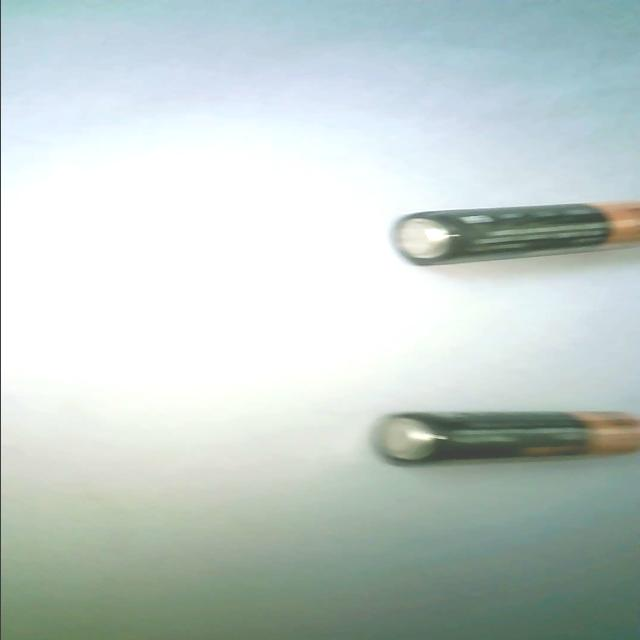AA: (392, 200, 640, 266), (374, 409, 640, 466)
